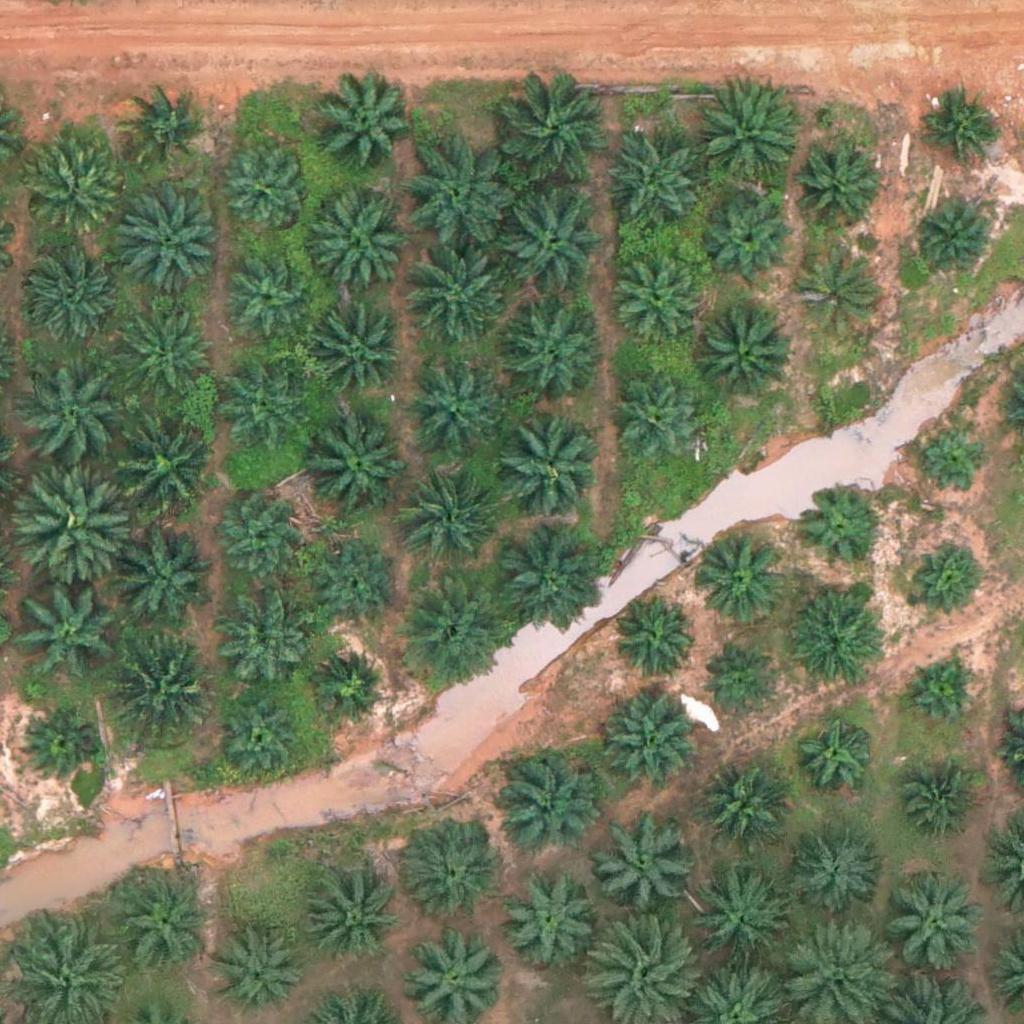Kelapa_Sawit: (494, 291, 607, 405), (690, 78, 803, 192), (24, 467, 137, 580), (298, 402, 411, 515), (400, 138, 513, 251), (397, 582, 510, 695), (498, 186, 611, 299), (486, 403, 599, 516), (23, 361, 135, 475), (19, 576, 131, 689), (112, 182, 224, 295), (112, 407, 224, 520), (110, 628, 222, 741), (300, 185, 412, 298), (403, 242, 515, 355), (391, 463, 503, 576), (497, 74, 609, 187), (490, 526, 602, 639), (27, 133, 127, 234), (119, 296, 219, 397), (112, 530, 212, 631), (115, 874, 215, 975), (210, 597, 310, 698), (310, 76, 410, 177), (303, 297, 403, 398), (608, 127, 708, 228), (782, 596, 882, 697), (883, 876, 983, 977), (595, 813, 695, 914), (493, 752, 593, 853), (401, 817, 501, 918), (301, 866, 401, 967), (28, 247, 128, 347), (402, 355, 502, 455), (690, 298, 790, 398), (598, 699, 698, 799), (497, 868, 597, 968), (786, 819, 886, 919), (693, 874, 793, 974), (918, 82, 1006, 170), (791, 251, 879, 339), (306, 642, 394, 730), (218, 250, 306, 338), (612, 253, 700, 341), (615, 373, 703, 461), (705, 192, 793, 280), (795, 140, 883, 228), (216, 929, 304, 1017), (126, 82, 213, 170), (913, 198, 1000, 286), (216, 141, 303, 229), (221, 368, 308, 456), (217, 493, 304, 581), (219, 697, 306, 785), (312, 538, 399, 626), (799, 484, 886, 572), (698, 764, 785, 852), (894, 765, 981, 853), (693, 533, 780, 621), (611, 596, 698, 684), (21, 705, 96, 781), (796, 718, 871, 794), (902, 658, 977, 734), (908, 541, 983, 617), (919, 421, 994, 497), (706, 649, 781, 724)
